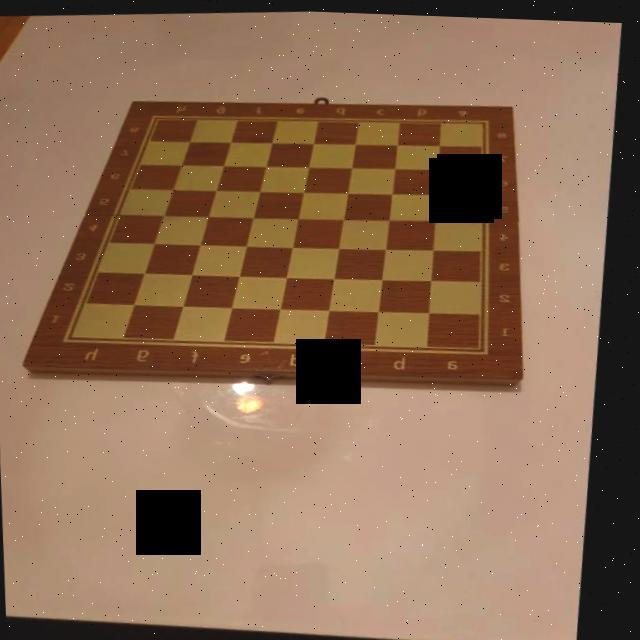chess-table-corners: (479, 335, 510, 359), (62, 329, 88, 350), (145, 107, 171, 125), (482, 113, 498, 125)
